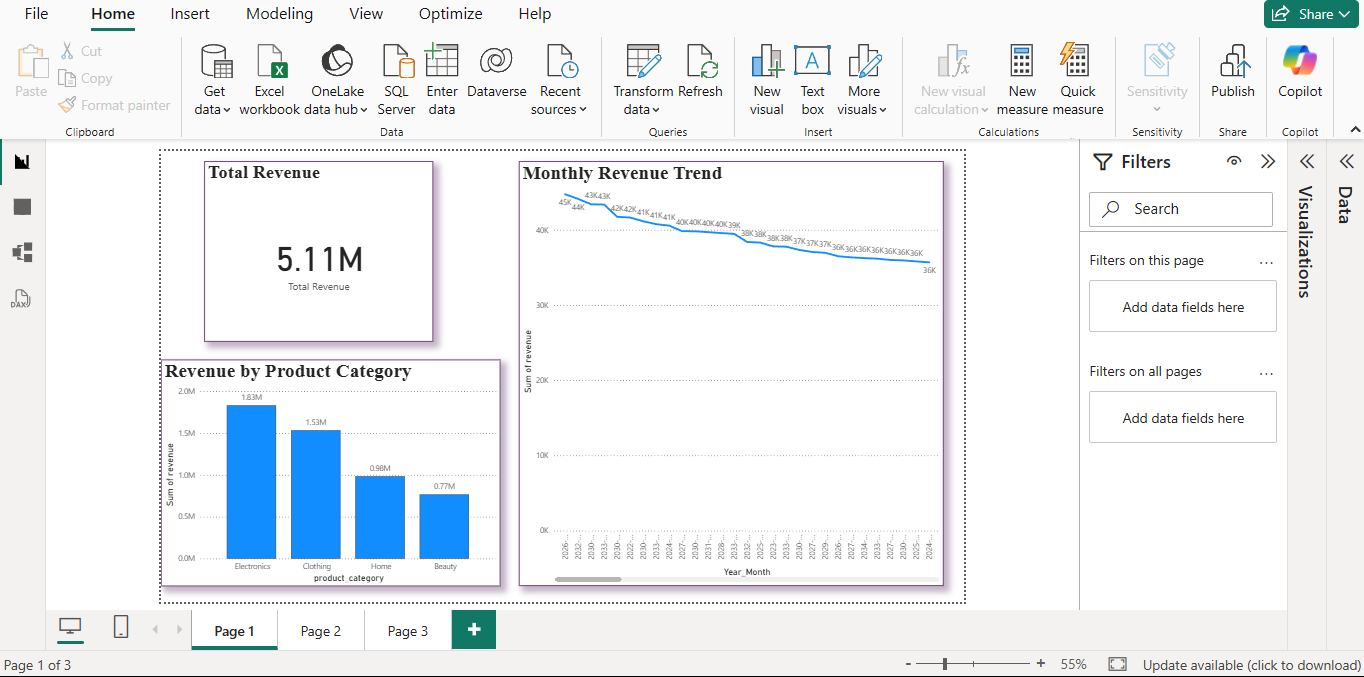

The page's visual inventory and layout, read from the dashboard file:
{"tool":"powerbi","page":{"name":"Page 1","canvas":[1280,720],"ordinal":0},"visuals":[{"type":"card","title":"Total Revenue","fields":{"Values":["Sum(ecommerce_cleaned.revenue)"]},"box":[68.8,17.2,365.3,288],"z":0},{"type":"clusteredColumnChart","title":"Revenue by Product Category","fields":{"Category":["ecommerce_cleaned.product_category"],"Y":["Sum(ecommerce_cleaned.revenue)"]},"box":[0,333.1,541.5,361],"z":1},{"type":"lineChart","title":"Monthly Revenue Trend","fields":{"Y":["Sum(ecommerce_cleaned.revenue)"],"Category":["ecommerce_cleaned.Year_Month"]},"box":[571.6,17.2,676.9,676.9],"z":2}]}

Visuals, with their boxes on the page's 1280x720 design canvas (x1, y1, x2, y2). These are canvas units, not pixel positions in the 1364x677 screenshot, which may show the page scaled, cropped or inside an application window:
"Total Revenue" card: bbox(69, 17, 434, 305)
"Revenue by Product Category" clusteredColumnChart: bbox(0, 333, 542, 694)
"Monthly Revenue Trend" lineChart: bbox(572, 17, 1248, 694)
